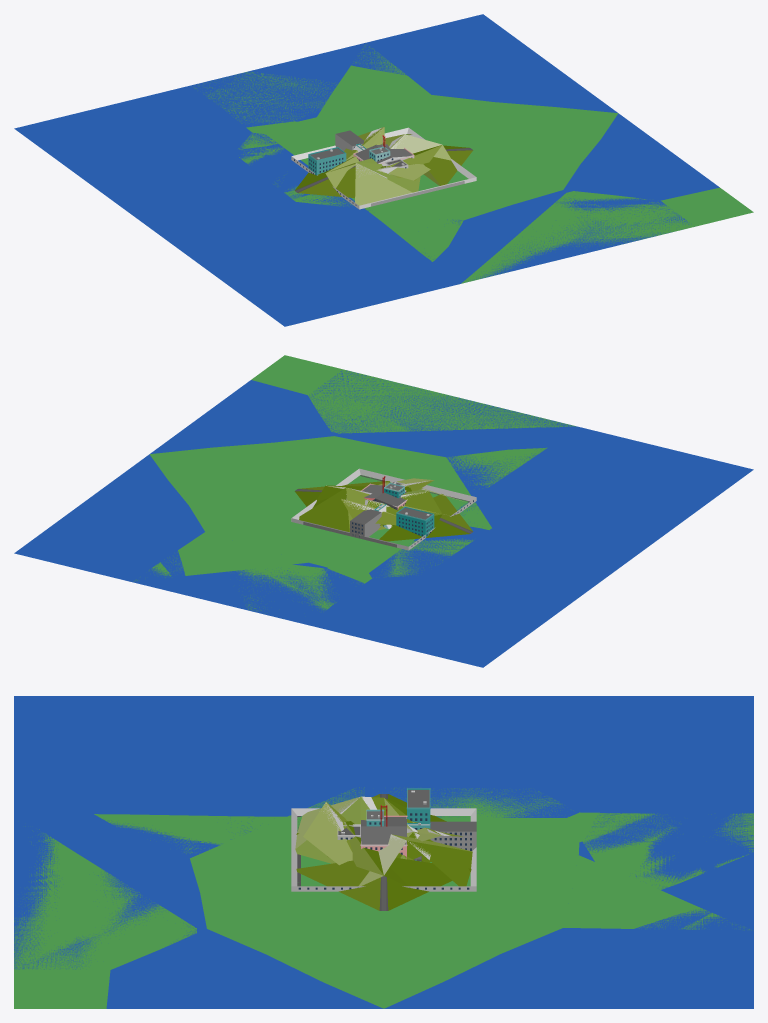
3 renders of one model, top to bottom at view 1: azimuth 30°, elevation 25°; view 2: azimuth 150°, elevation 25°; view 3: azimuth 270°, elevation 25°, orthographic. The views are drawn at different scales.
Visible parts, largest first — view 1: ce_059_lod0, ce_058_lod0, ce_001_lod0, ce_060_lod0, ce_002_lod0, ce_061_lod0, ce_057_lod0, ce_003_lod0, ce_062_lod0_s1v0, ce_087_lod0, ce_070_lod0, ce_029_lod0 (+1 smaller); view 2: ce_059_lod0, ce_058_lod0, ce_001_lod0, ce_060_lod0, ce_002_lod0, ce_061_lod0, ce_057_lod0, ce_062_lod0_s1v0, ce_090_lod0, ce_087_lod0, ce_029_lod0, ce_003_lod0 (+1 smaller); view 3: ce_058_lod0, ce_059_lod0, ce_001_lod0, ce_060_lod0, ce_002_lod0, ce_061_lod0, ce_070_lod0, ce_057_lod0, ce_090_lod0, ce_029_lod0, ce_062_lod0_s1v0, ce_003_lod0 (+6 smaller).
Part boxes in pixels (x1,y1,x2,y2): ce_059_lod0: [17, 113, 719, 326]; ce_058_lod0: [260, 44, 753, 283]; ce_001_lod0: [14, 14, 583, 227]; ce_060_lod0: [183, 76, 617, 298]; ce_002_lod0: [190, 57, 584, 127]; ce_061_lod0: [194, 71, 352, 206]; ce_057_lod0: [17, 72, 245, 198]; ce_003_lod0: [318, 158, 420, 205]; ce_062_lod0_s1v0: [308, 130, 390, 175]; ce_087_lod0: [294, 166, 355, 197]; ce_070_lod0: [382, 135, 472, 185]; ce_029_lod0: [291, 127, 476, 209]; ce_059_lod0: [150, 370, 753, 666]; ce_058_lod0: [133, 355, 575, 581]; ce_001_lod0: [14, 479, 616, 667]; ce_060_lod0: [116, 441, 685, 556]; ce_002_lod0: [116, 479, 364, 624]; ce_061_lod0: [236, 502, 491, 610]; ce_057_lod0: [252, 597, 558, 667]; ce_062_lod0_s1v0: [350, 484, 434, 537]; ce_090_lod0: [299, 485, 392, 532]; ce_087_lod0: [379, 494, 472, 541]; ce_029_lod0: [291, 468, 476, 550]; ce_003_lod0: [392, 488, 463, 527]; ce_058_lod0: [14, 814, 751, 1008]; ce_059_lod0: [14, 696, 750, 1008]; ce_001_lod0: [364, 696, 753, 1008]; ce_060_lod0: [14, 696, 628, 1008]; ce_002_lod0: [445, 813, 753, 1008]; ce_061_lod0: [288, 787, 753, 889]; ce_070_lod0: [296, 805, 471, 910]; ce_057_lod0: [478, 696, 753, 850]; ce_090_lod0: [358, 834, 472, 886]; ce_029_lod0: [291, 808, 476, 891]; ce_062_lod0_s1v0: [366, 790, 476, 851]; ce_003_lod0: [295, 796, 422, 863].
Size of what is drawn, in the model's own units: 4096 by 288 by 4096.
